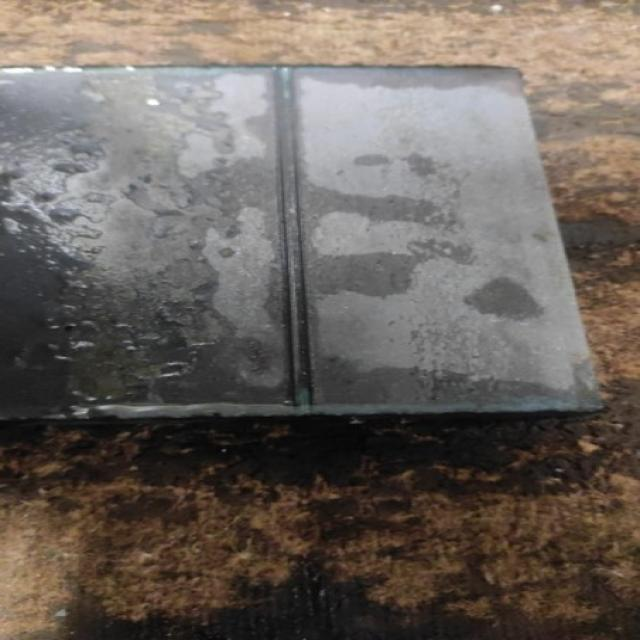defect: (274, 66, 314, 406)
